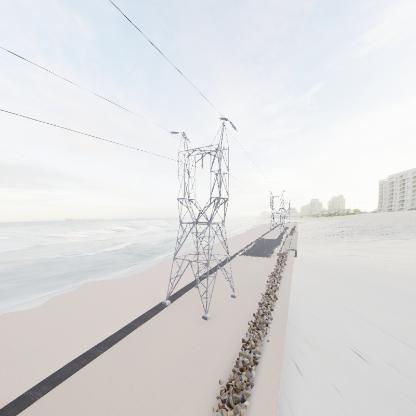tower: (159, 113, 240, 322)
